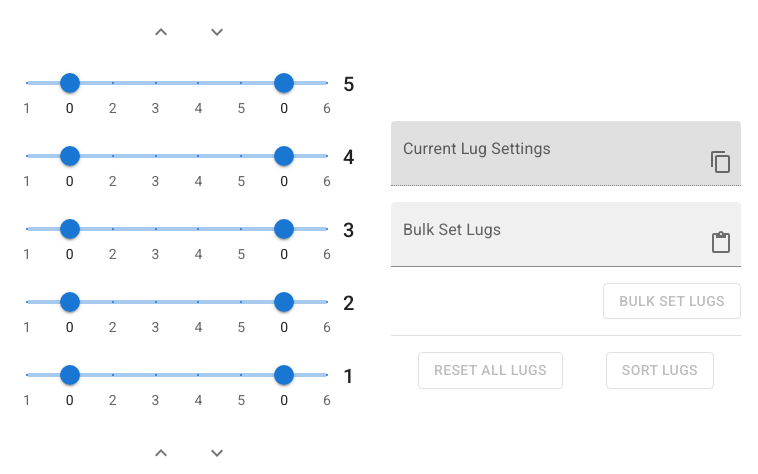
Test case: DrumSetup › Can bulk set lugs, sort, and reset
Check: the text box labelled "Current Lug Settings" is empty, box [403, 150, 693, 173]
Check: the button "Bulk Set Lugs" is disabled, box [603, 282, 741, 319]
Type "0-4*7 0-5*2 0-6*2 1-0 2-0 2-4*2 3-0*9 3-4 4-6*2" into the text box labelled "Bulk Set Lugs" at (548, 242), box [403, 231, 693, 254]
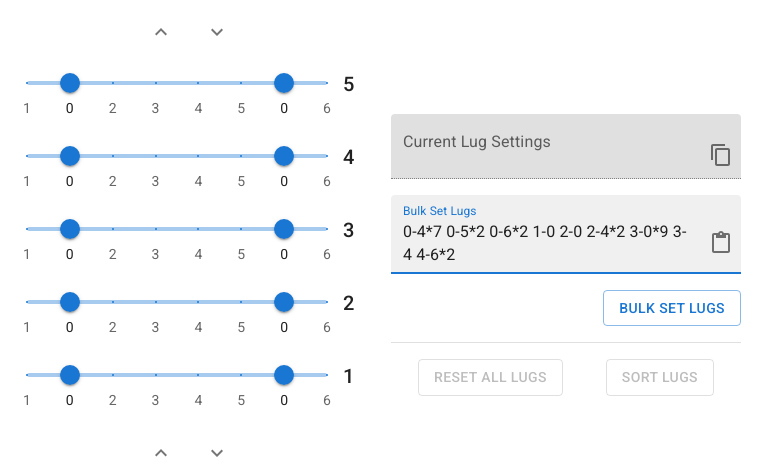
Check: the button "Bulk Set Lugs" is enabled
Click the button "Bulk Set Lugs" at (672, 308), box [603, 290, 741, 326]
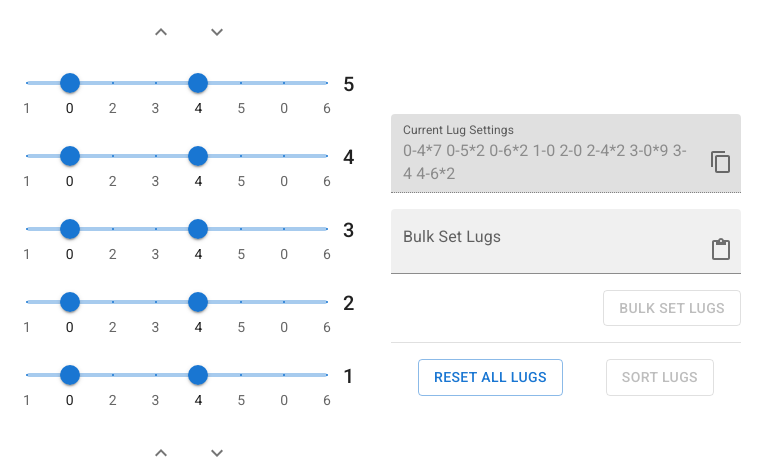
Check: the text box labelled "Current Lug Settings" holds "0-4*7 0-5*2 0-6*2 1-0 2-0 2-4*2 3-0*9 3-4 4-6*2", box [403, 138, 693, 184]
Check: the text box labelled "Bulk Set Lugs" is empty
Check: the button "Bulk Set Lugs" is disabled, box [603, 290, 741, 326]
Type "2-0 1-0 0-4*7 0-5*2 0-6*2 2-4*2 3-0*9 3-4 4-6*2" into the text box labelled "Bulk Set Lugs" at (548, 250), box [403, 238, 693, 261]
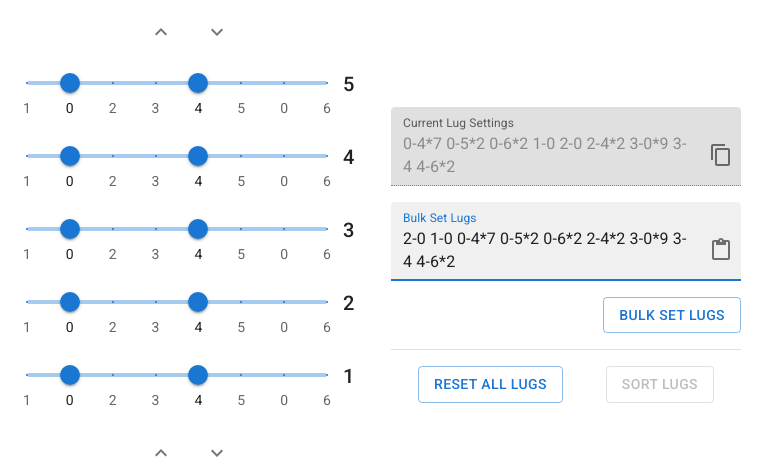
Check: the button "Bulk Set Lugs" is enabled
Click the button "Bulk Set Lugs" at (672, 315), box [603, 296, 741, 333]
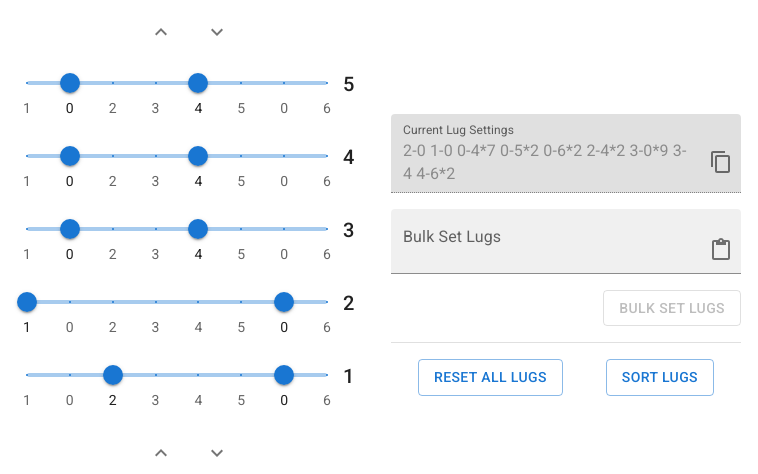
Check: the text box labelled "Current Lug Settings" holds "2-0 1-0 0-4*7 0-5*2 0-6*2 2-4*2 3-0*9 3-4 4-6*2", box [403, 138, 693, 184]
Check: the button "Sort Lugs" is enabled
Click the button "Sort Lugs" at (660, 377), box [606, 359, 714, 396]
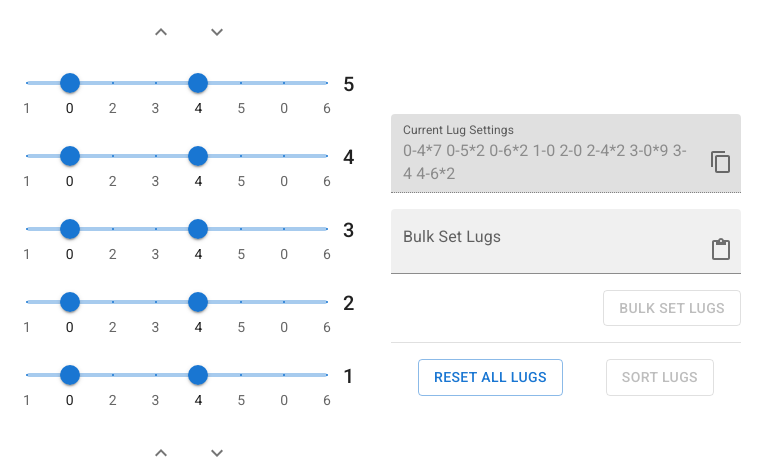
Check: the button "Reset All Lugs" is enabled
Check: the text box labelled "Current Lug Settings" holds "0-4*7 0-5*2 0-6*2 1-0 2-0 2-4*2 3-0*9 3-4 4-6*2", box [403, 138, 693, 184]
Click the button "Reset All Lugs" at (490, 377), box [418, 359, 563, 396]
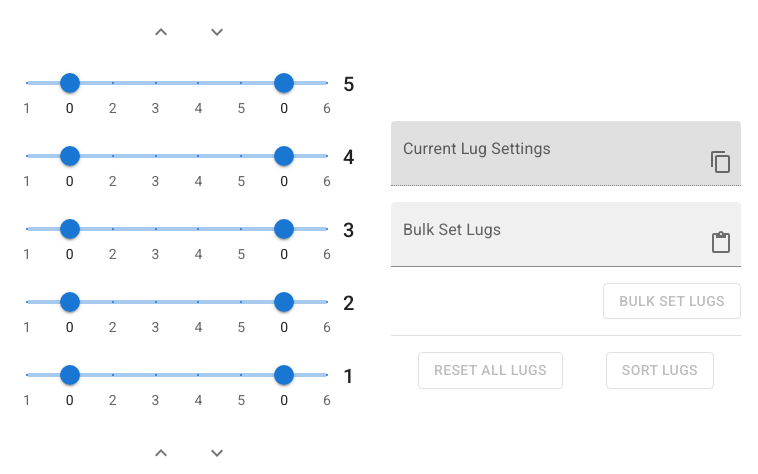
Check: the text box labelled "Current Lug Settings" is empty, box [403, 150, 693, 173]
Check: the button "Reset All Lugs" is disabled, box [418, 352, 563, 388]
